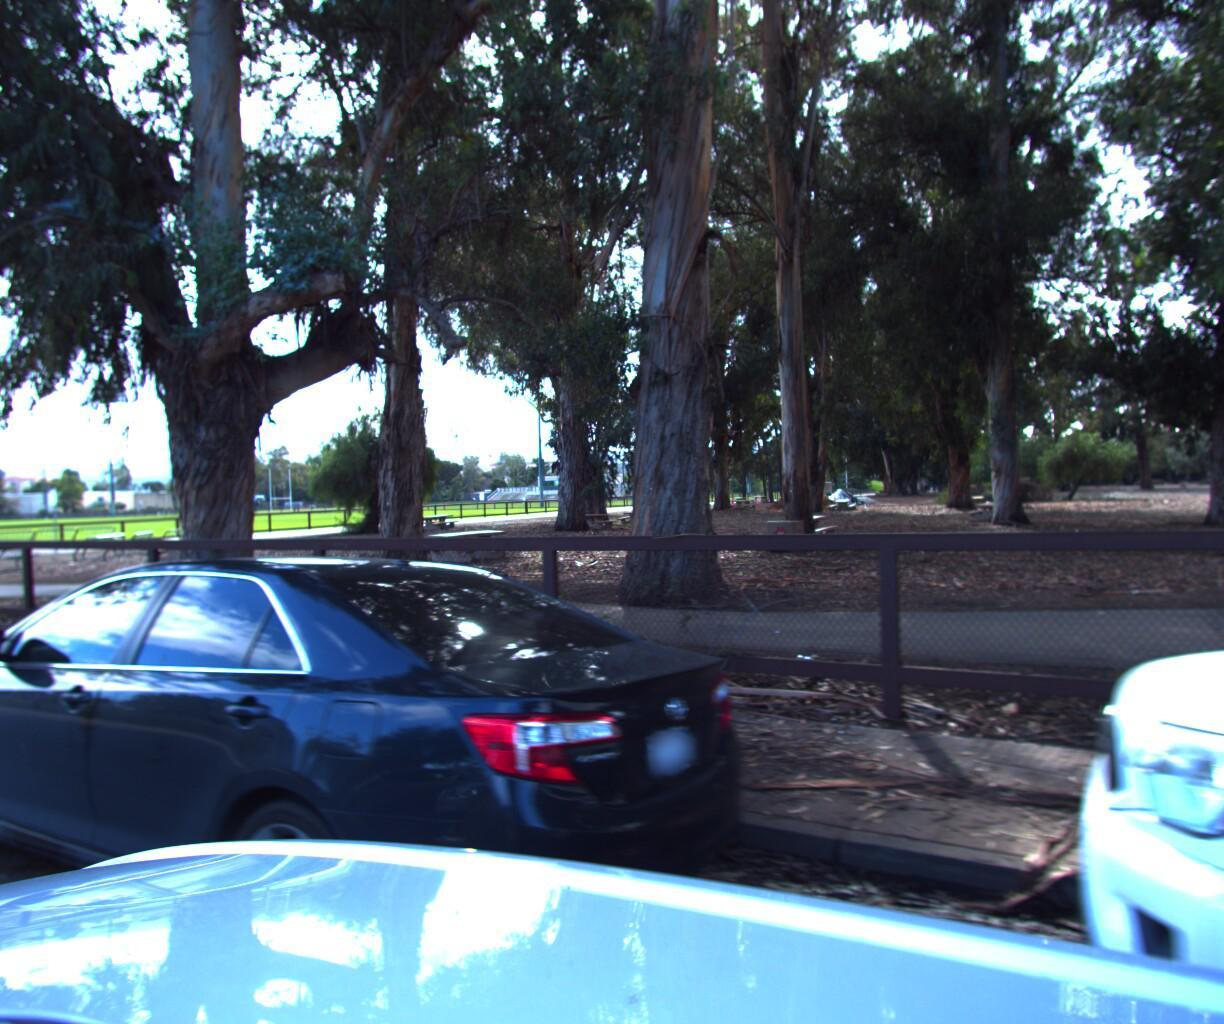car: (0, 528, 782, 1024), (0, 539, 24, 762)
